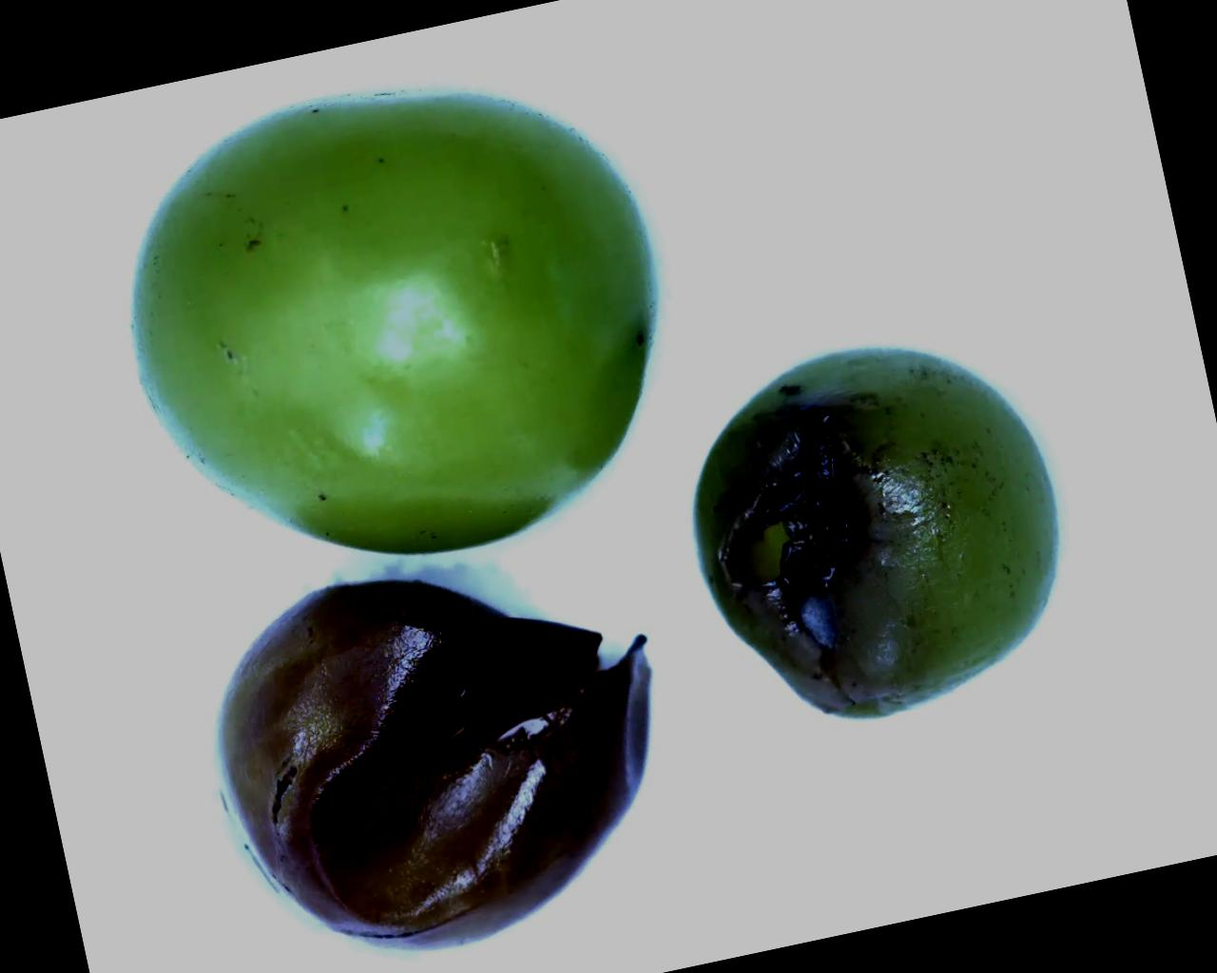Grape Rotten: (179, 518, 703, 973), (659, 308, 1095, 749)
Grape Unripe: (82, 31, 708, 555)
